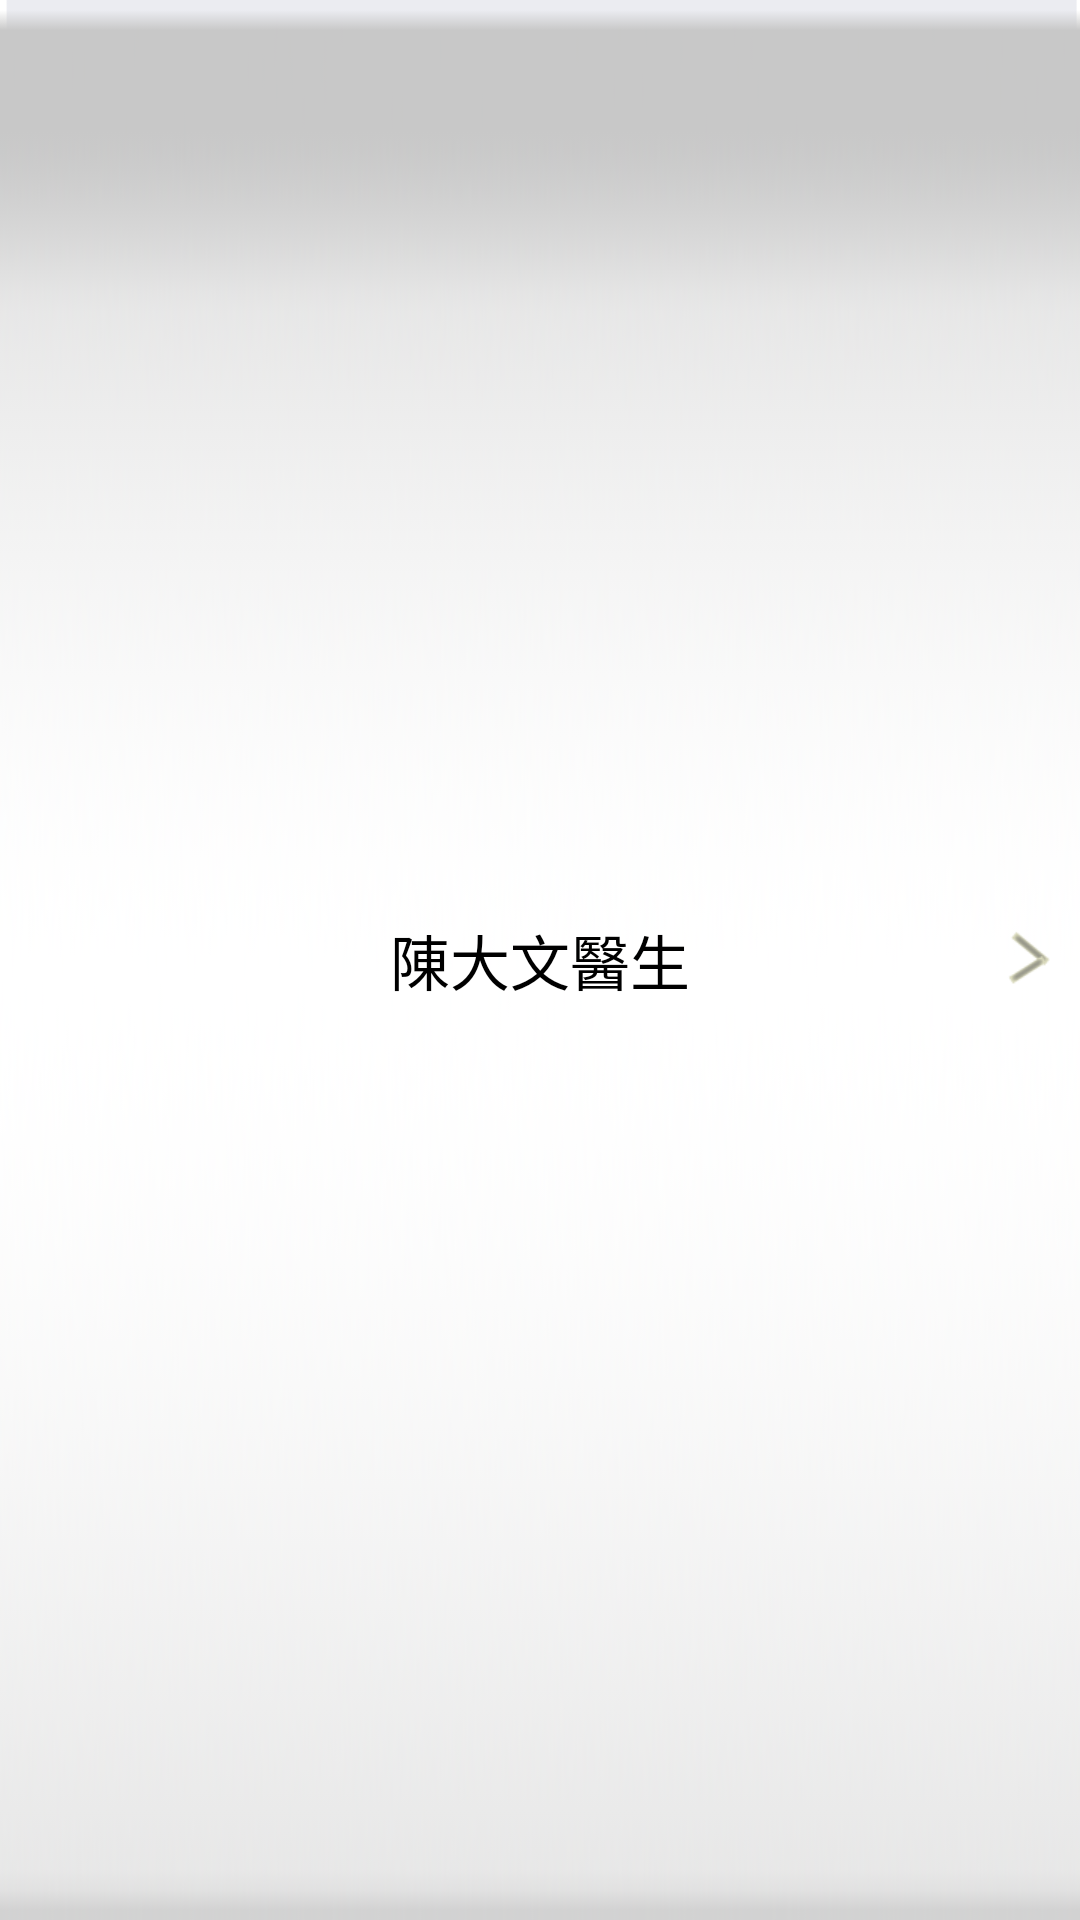

Icon bounding boxes for this 1080px x 1920px phone screenshot, format {"x1": x1, "y1": y1, "x2": x2, "y2": y2}:
title right: {"x1": 1009, "y1": 932, "x2": 1049, "y2": 983}
